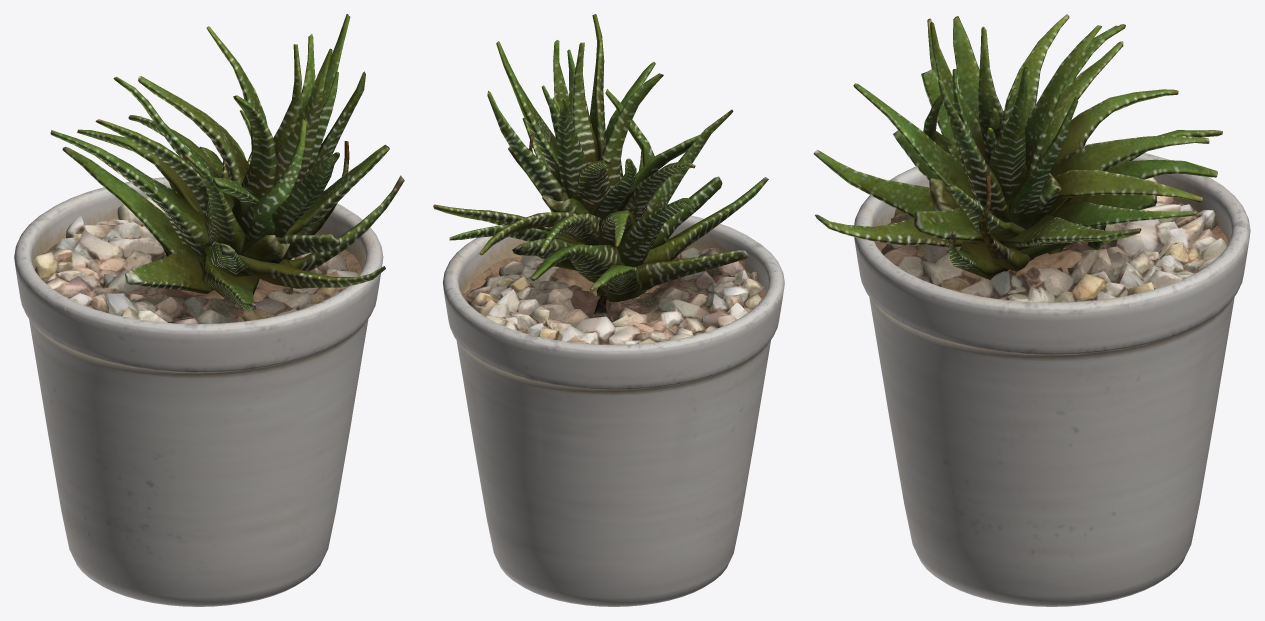
The model's file is potted-plant-04.glb.
The picture shows the model from 3 angles, left to right: view 1: azimuth 30°, elevation 25°; view 2: azimuth 150°, elevation 25°; view 3: azimuth 270°, elevation 25°; orthographic projection. The views are drawn at different scales.
Parts seen in each view (by area): view 1: potted_plant_04_ground; view 2: potted_plant_04_ground; view 3: potted_plant_04_ground.
Part boxes in pixels (left/top/right/bottom): potted_plant_04_ground: left=14, top=14, right=404, bottom=606; potted_plant_04_ground: left=433, top=14, right=784, bottom=606; potted_plant_04_ground: left=813, top=14, right=1250, bottom=606.
Bounding box in the file's own units: 0.1679 × 0.2675 × 0.1848.
Materials: 1 (1 with a texture image).
